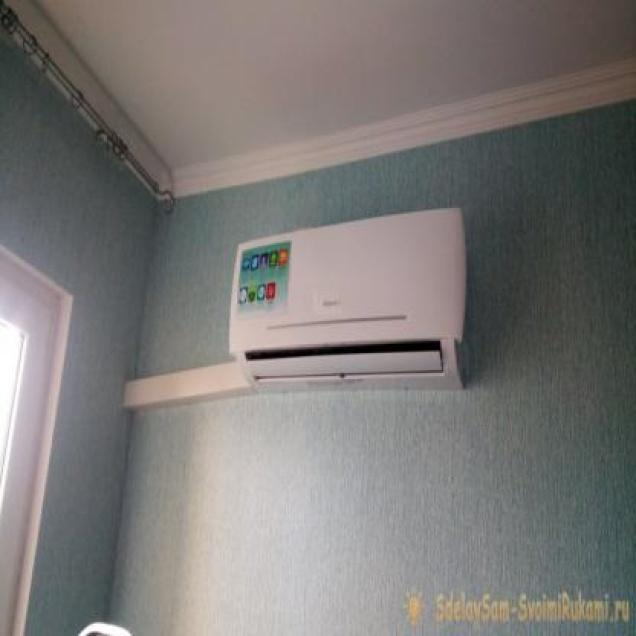AC: (225, 204, 471, 392)
